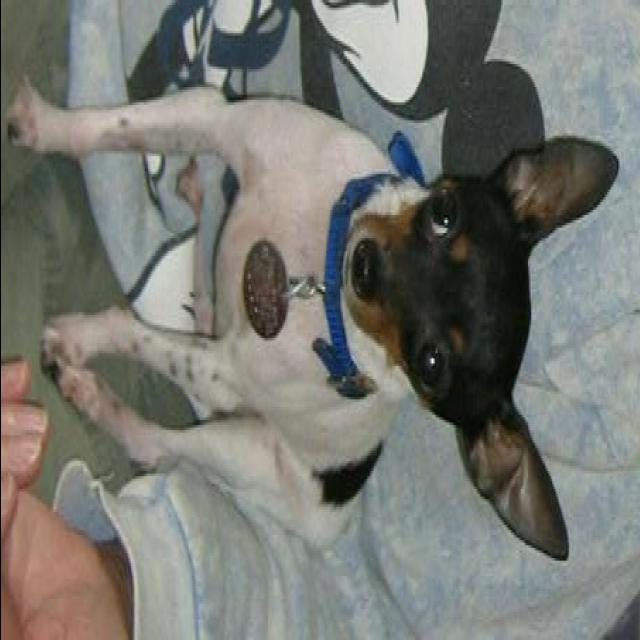toy_terrier: (7, 80, 625, 568)
